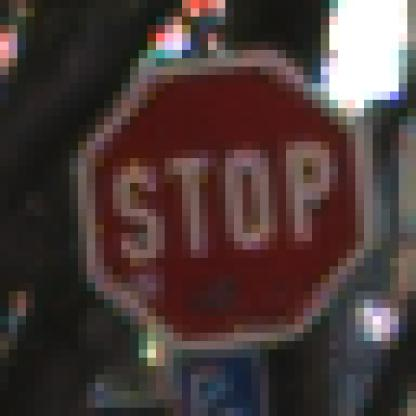stop: (65, 64, 375, 352)
